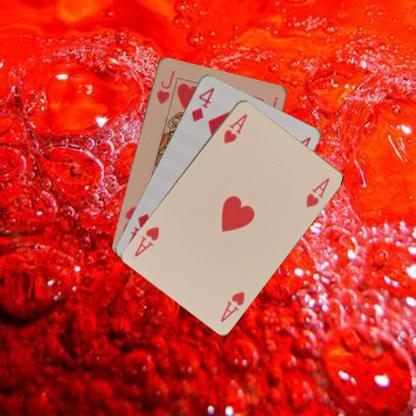4d: (188, 84, 216, 123)
Ah: (217, 288, 246, 324), (221, 110, 249, 145)
Jh: (154, 67, 176, 105)
